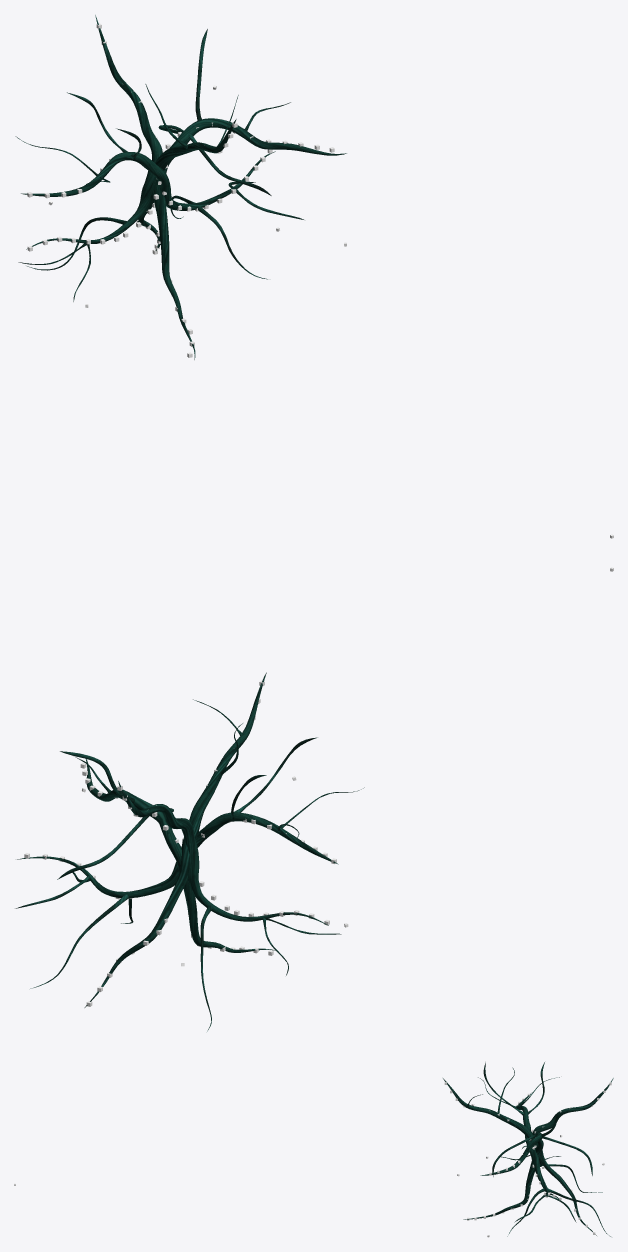
The model's file is tree_scene_004_modified_paths.glb.
The picture shows the model from 3 angles, top to bottom: view 1: azimuth 30°, elevation 25°; view 2: azimuth 150°, elevation 25°; view 3: azimuth 270°, elevation 25°; orthographic projection. The views are drawn at different scales.
Visible parts, largest first — view 1: GEO; view 2: GEO; view 3: GEO.
Boxes of the visible parts, x1,y1,x2,y2 form: GEO: (15, 15, 346, 359); GEO: (15, 672, 364, 1031); GEO: (443, 1062, 613, 1236).
Size of the model in its own units: 873 by 714 by 2562.
Materials: 106 (1 with a texture image).
